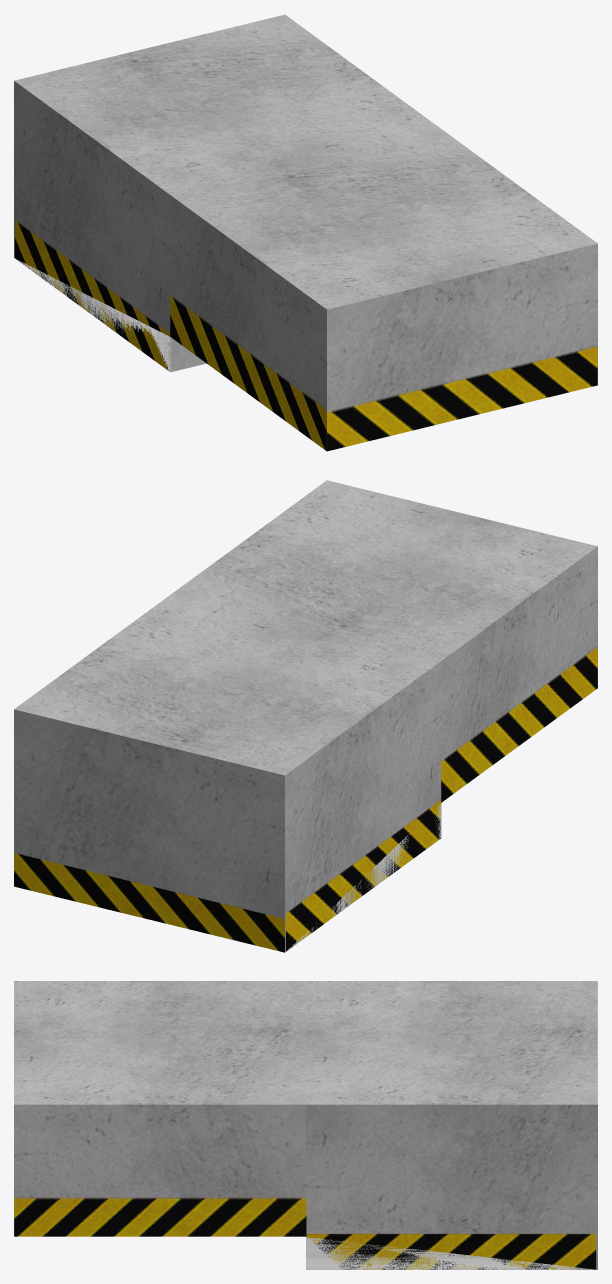
File: Room.fbx
3 views of the same model, one above another, from view 1: azimuth 30°, elevation 25°; view 2: azimuth 150°, elevation 25°; view 3: azimuth 270°, elevation 25° (orthographic). The views are drawn at different scales.
Visible parts, largest first — view 1: Cube; view 2: Cube; view 3: Cube.
Boxes of the visible parts, bbox=[...] form: Cube: bbox=[14, 14, 597, 451]; Cube: bbox=[14, 480, 597, 952]; Cube: bbox=[14, 981, 597, 1269].
Size of the model in its own units: 200 by 125 by 400.
